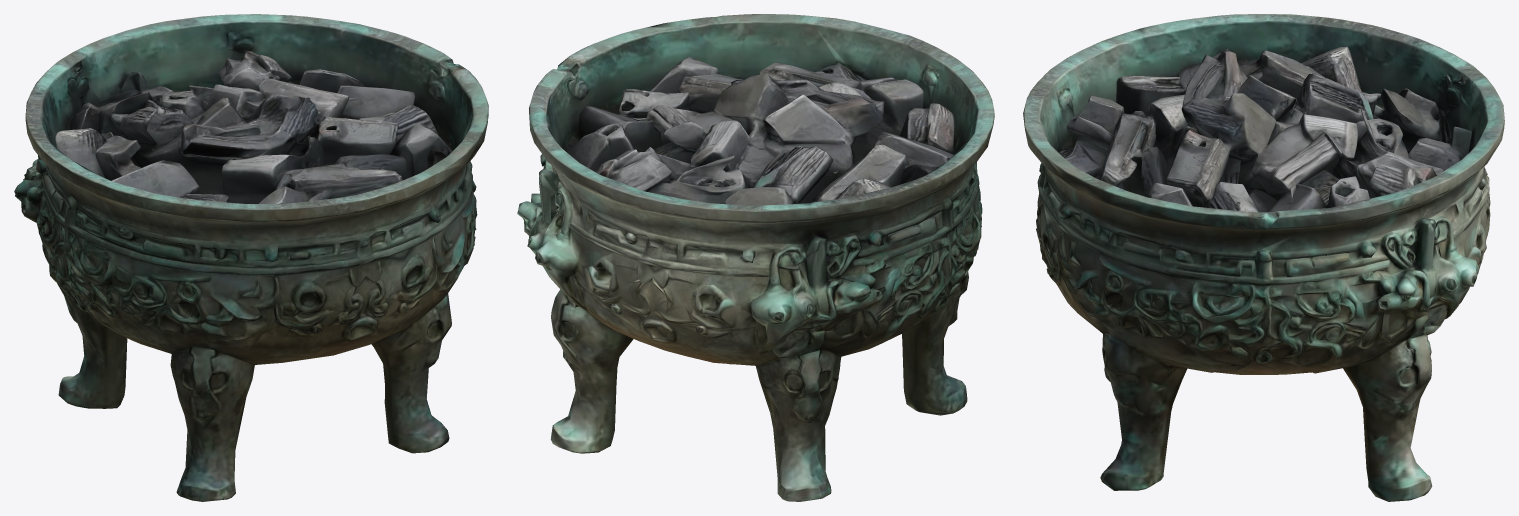
The model's file is brazier-high.glb.
The picture shows the model from 3 angles, left to right: view 1: azimuth 30°, elevation 25°; view 2: azimuth 150°, elevation 25°; view 3: azimuth 270°, elevation 25°; orthographic projection. The views are drawn at different scales.
Size of the model in its own units: 0.9982 by 0.7904 by 0.9983.
Materials: 1 (1 with a texture image).
